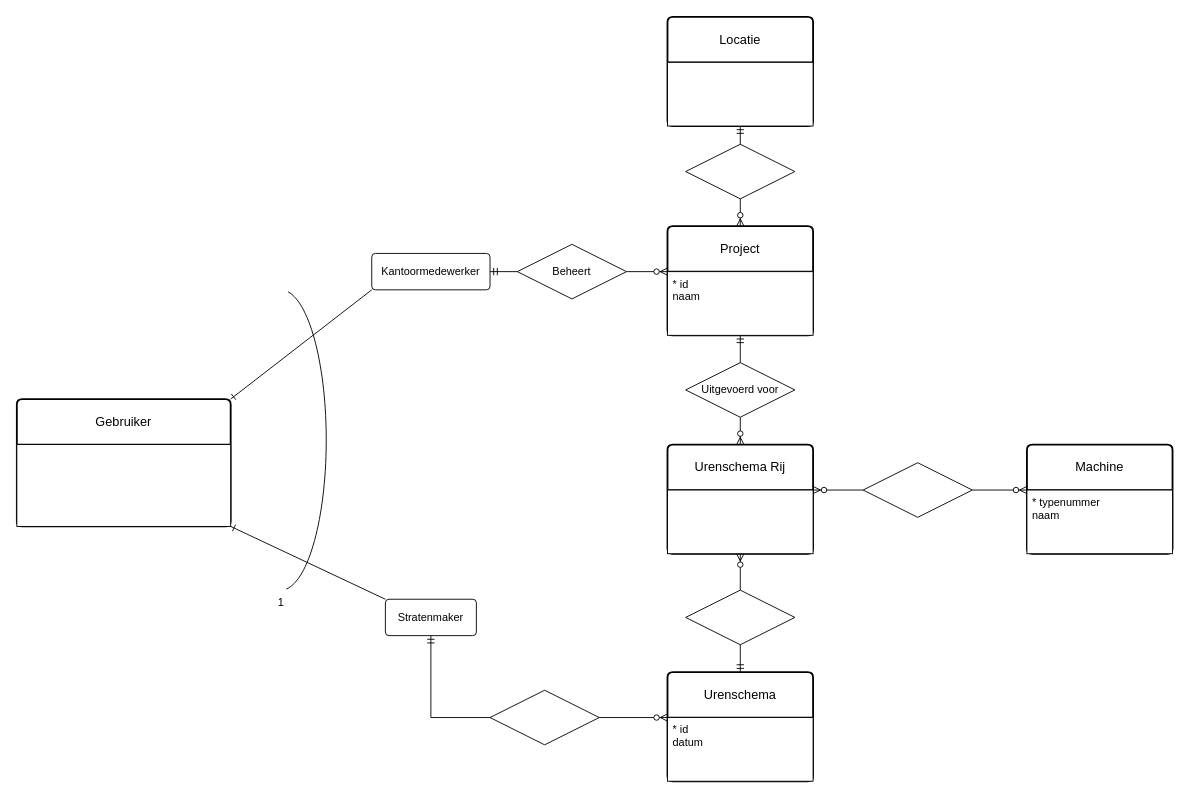
This 1188x797 diagram has some shape labels left out. Here are the shapes that lost their labels. From the top down, the centre of each, then its label:
(x=740, y=93): * id adres stad postcode
(x=740, y=171): Vindt plaats
(x=123, y=485): * Gebruikersnaam Emailadres Wachtwoord Voornaam Achternaam
(x=917, y=489): Gebruikt
(x=740, y=521): * id uren omschrijving
(x=740, y=617): Bevat / Zit in
(x=544, y=717): Heeft
